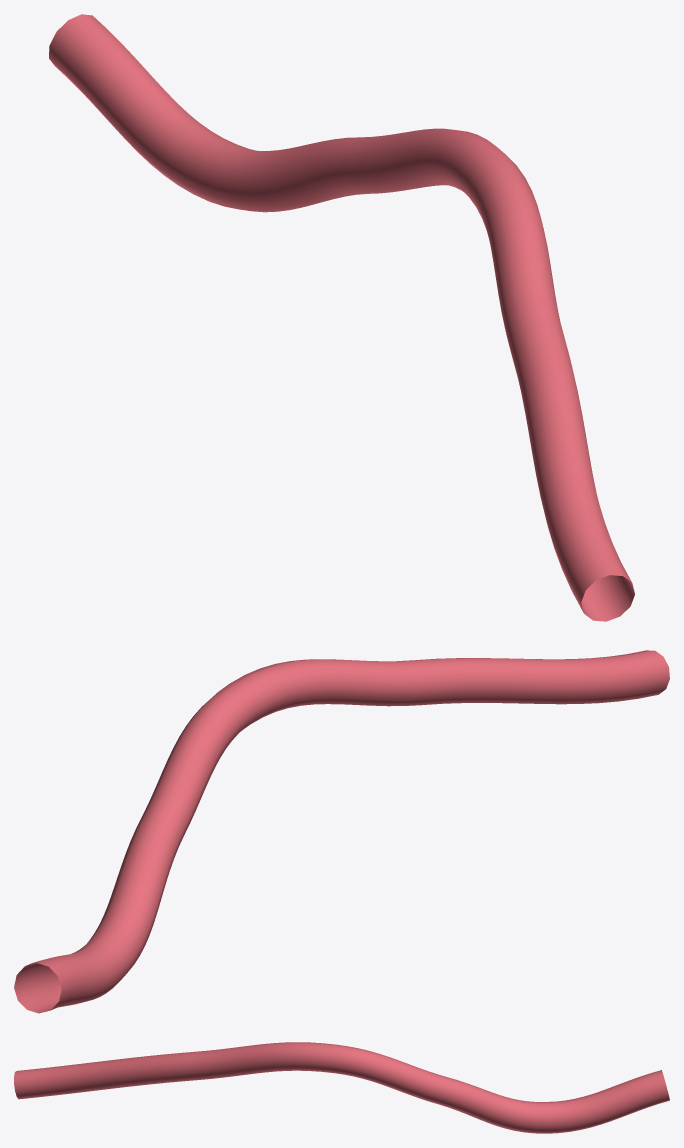
3 views of the same model, one above another, from view 1: azimuth 30°, elevation 25°; view 2: azimuth 150°, elevation 25°; view 3: azimuth 270°, elevation 25° (orthographic). The views are drawn at different scales.
Parts seen in each view (by area): view 1: ZA_7862bb8992055efa; view 2: ZA_7862bb8992055efa; view 3: ZA_7862bb8992055efa.
Part boxes in pixels (box(x1,y1,x2,y2)): ZA_7862bb8992055efa: box(49, 14, 634, 621); ZA_7862bb8992055efa: box(14, 650, 669, 1013); ZA_7862bb8992055efa: box(14, 1042, 669, 1133).
Size of the model in its own units: 0.00894 by 0.0069 by 0.0412.
